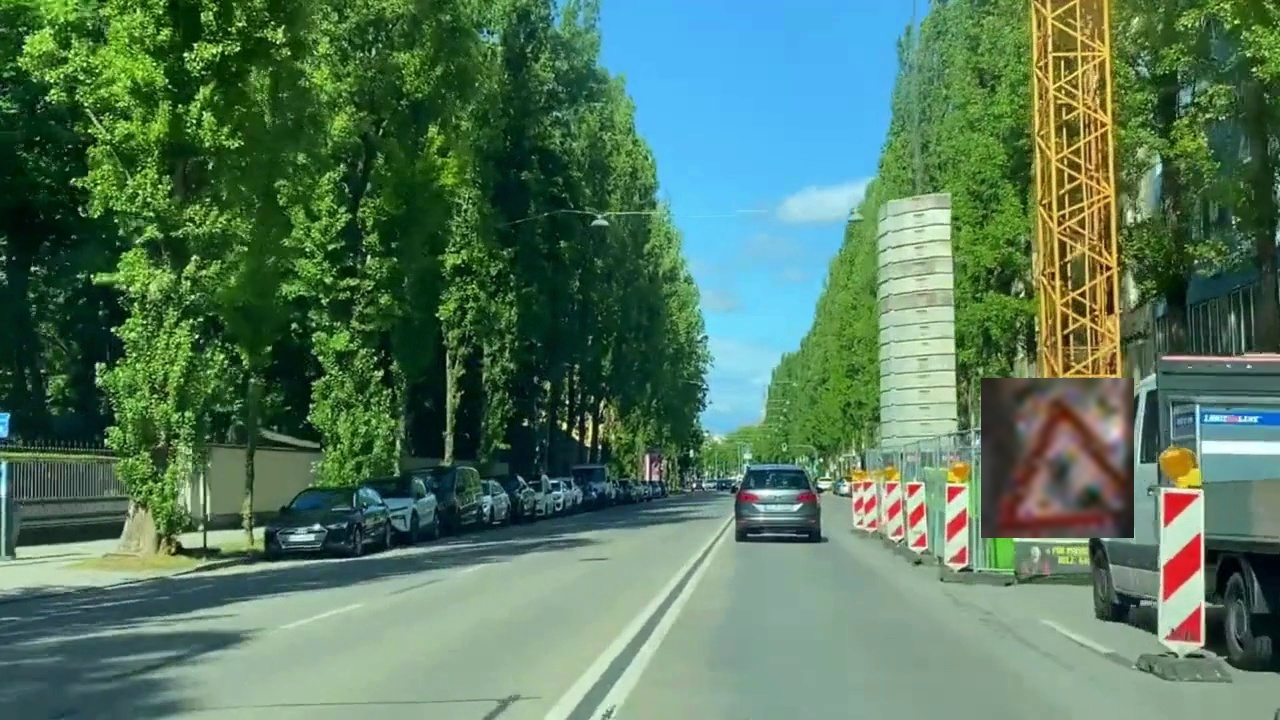Road work: (981, 378, 1134, 538)
